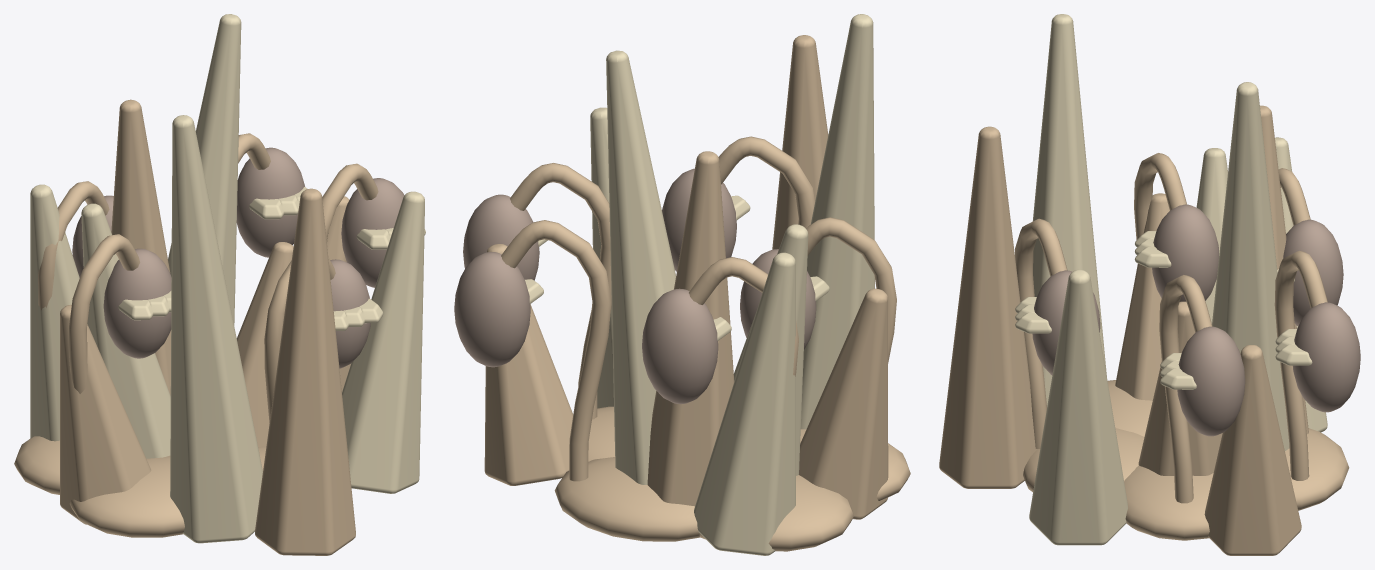
Rendered from bio_crystal_fan_08_near.glb.
The picture shows the model from 3 angles, left to right: view 1: azimuth 30°, elevation 25°; view 2: azimuth 150°, elevation 25°; view 3: azimuth 270°, elevation 25°; orthographic projection. The views are drawn at different scales.
Parts seen in each view (by area): view 1: Reflecting mineral prism.007, Reflecting mineral prism.002, Reflecting mineral prism.005, Reflecting mineral prism.004, Reflecting mineral prism.003, Reflecting mineral prism.001, Mineral substrate, Reflecting mineral prism.009, Reflecting mineral prism.006, Pendant spore capsule.004, Pendant spore capsule.003, Reflecting mineral prism (+13 smaller); view 2: Reflecting mineral prism.001, Reflecting mineral prism.003, Reflecting mineral prism.007, Mineral substrate, Reflecting mineral prism.004, Reflecting mineral prism.006, Reflecting mineral prism.008, Pendant spore capsule.003, Pendant spore capsule.001, Arched fruit stem.003, Reflecting mineral prism.002, Arched fruit stem (+8 smaller); view 3: Reflecting mineral prism.002, Reflecting mineral prism.005, Reflecting mineral prism.003, Reflecting mineral prism.008, Reflecting mineral prism.007, Mineral substrate, Pendant spore capsule.003, Pendant spore capsule, Reflecting mineral prism.004, Arched fruit stem.003, Arched fruit stem, Pendant spore capsule.004 (+13 smaller).
Part boxes in pixels (x1=…): Reflecting mineral prism.007: x1=170, y1=115, x2=262, y2=543; Reflecting mineral prism.002: x1=255, y1=188, x2=355, y2=555; Reflecting mineral prism.005: x1=342, y1=191, x2=424, y2=493; Reflecting mineral prism.004: x1=60, y1=304, x2=151, y2=524; Reflecting mineral prism.003: x1=168, y1=14, x2=241, y2=325; Reflecting mineral prism.001: x1=30, y1=184, x2=79, y2=441; Mineral substrate: x1=14, y1=436, x2=266, y2=537; Reflecting mineral prism.009: x1=81, y1=203, x2=170, y2=458; Reflecting mineral prism.006: x1=111, y1=99, x2=171, y2=395; Pendant spore capsule.004: x1=103, y1=248, x2=171, y2=358; Pendant spore capsule.003: x1=236, y1=147, x2=304, y2=257; Reflecting mineral prism: x1=236, y1=242, x2=293, y2=446; Reflecting mineral prism.001: x1=694, y1=252, x2=795, y2=555; Reflecting mineral prism.003: x1=606, y1=50, x2=675, y2=484; Reflecting mineral prism.007: x1=800, y1=14, x2=874, y2=429; Mineral substrate: x1=554, y1=406, x2=910, y2=551; Reflecting mineral prism.004: x1=799, y1=288, x2=888, y2=519; Reflecting mineral prism.006: x1=647, y1=151, x2=734, y2=506; Reflecting mineral prism.008: x1=484, y1=244, x2=573, y2=485; Pendant spore capsule.003: x1=454, y1=252, x2=530, y2=367; Pendant spore capsule.001: x1=642, y1=288, x2=718, y2=404; Arched fruit stem.003: x1=501, y1=220, x2=611, y2=481; Reflecting mineral prism.002: x1=772, y1=35, x2=828, y2=249; Arched fruit stem: x1=510, y1=163, x2=611, y2=419; Reflecting mineral prism.002: x1=939, y1=126, x2=1036, y2=488; Reflecting mineral prism.005: x1=1029, y1=269, x2=1127, y2=545; Reflecting mineral prism.003: x1=1212, y1=82, x2=1289, y2=450; Reflecting mineral prism.008: x1=1204, y1=345, x2=1301, y2=555; Reflecting mineral prism.007: x1=1032, y1=14, x2=1106, y2=406; Mineral substrate: x1=1023, y1=380, x2=1349, y2=540; Pendant spore capsule.003: x1=1293, y1=302, x2=1360, y2=412; Pendant spore capsule: x1=1177, y1=326, x2=1245, y2=436; Reflecting mineral prism.004: x1=1115, y1=193, x2=1169, y2=400; Arched fruit stem.003: x1=1274, y1=250, x2=1327, y2=480; Arched fruit stem: x1=1159, y1=275, x2=1212, y2=503; Pendant spore capsule.004: x1=1152, y1=204, x2=1218, y2=301.
Size of the model in its own units: 1.63 by 1.79 by 1.59.
